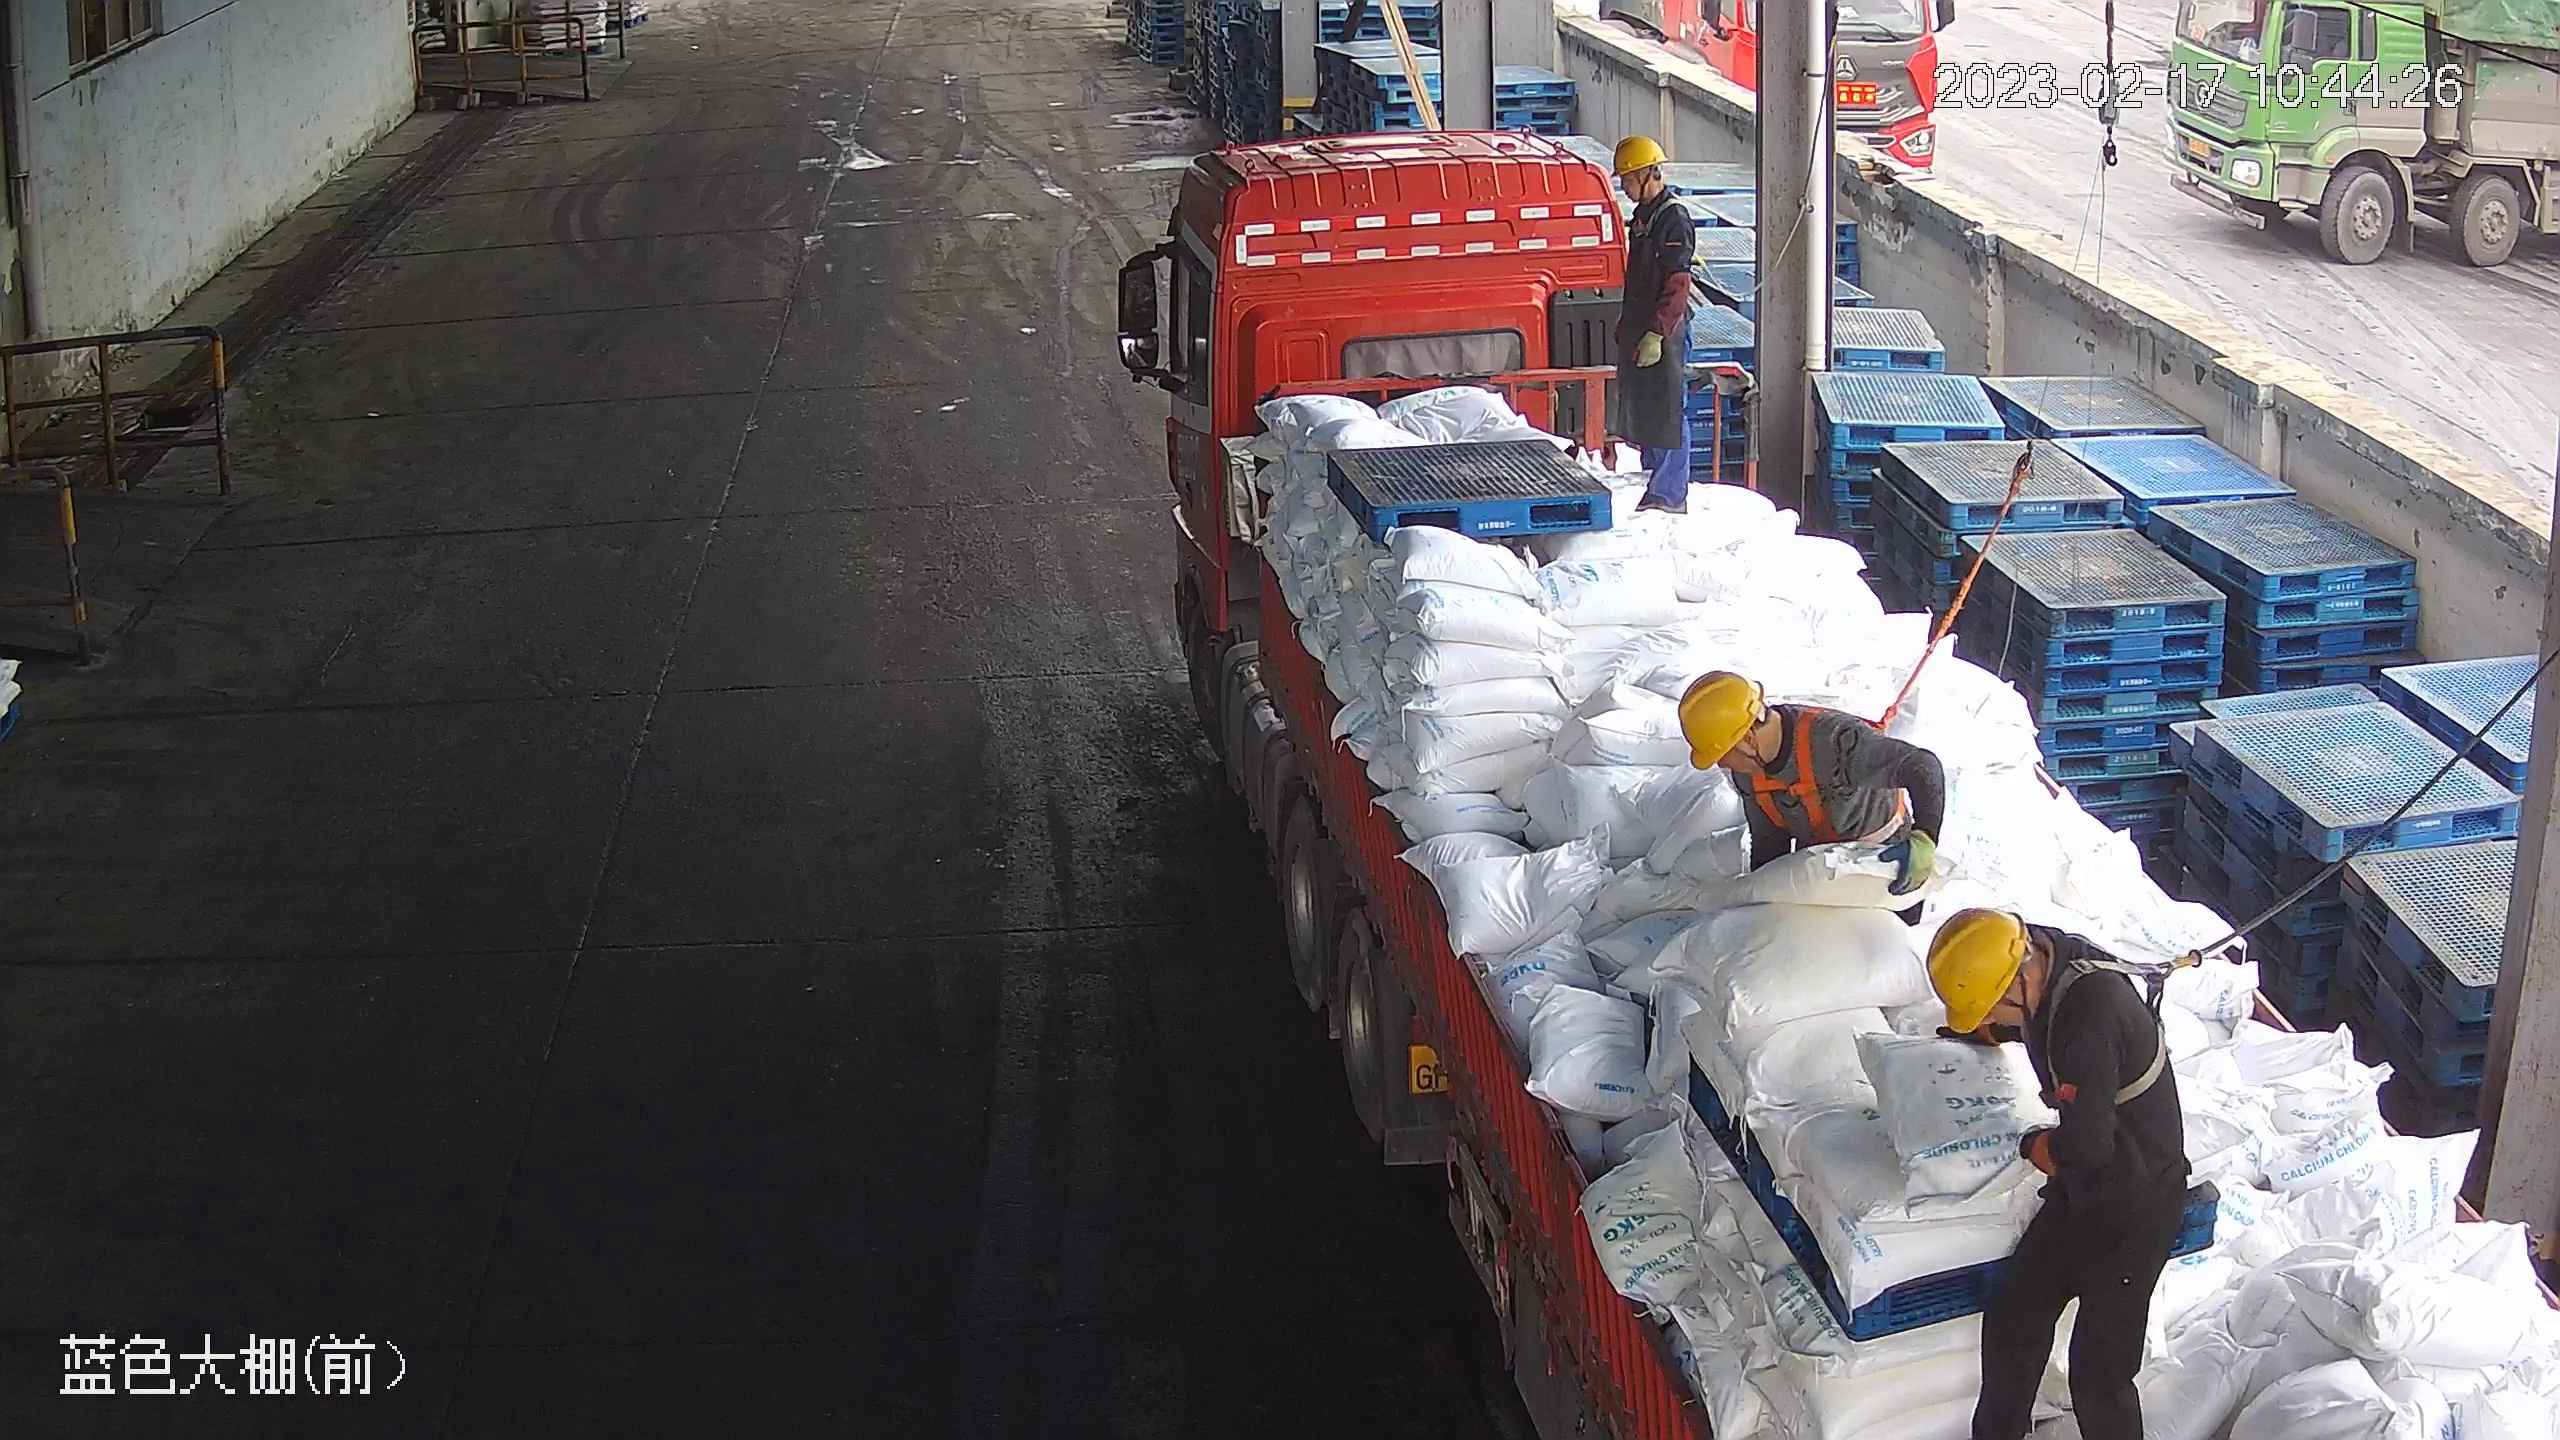belt: (2042, 933, 2210, 1113), (1754, 706, 1862, 835), (1632, 196, 1695, 240)
head: (1927, 910, 2149, 1098), (1679, 672, 1876, 818), (1612, 137, 1683, 256)
helmet: (1923, 910, 2029, 1037), (1678, 672, 1767, 774), (1610, 133, 1664, 178)
people: (1923, 906, 2191, 1440), (1610, 135, 1703, 517)
truck: (1113, 122, 2560, 1440)
